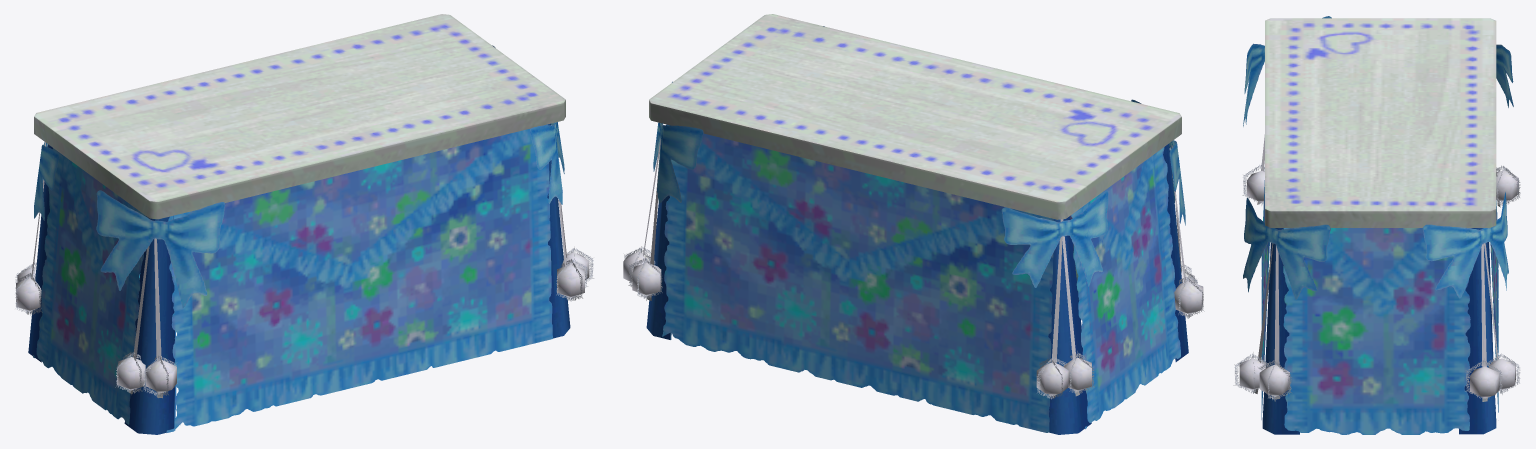
File: furni_0200011_03.FBX
3 renders of one model, left to right at view 1: azimuth 30°, elevation 25°; view 2: azimuth 150°, elevation 25°; view 3: azimuth 270°, elevation 25°, orthographic. The views are drawn at different scales.
Visible parts, largest first — view 1: furni_0200011_03; view 2: furni_0200011_03; view 3: furni_0200011_03.
Part boxes in pixels (x1,y1,x2,y2): furni_0200011_03: [15, 14, 594, 434]; furni_0200011_03: [623, 14, 1204, 434]; furni_0200011_03: [1233, 16, 1520, 434].
Size of the model in its own units: 172 by 80.05 by 94.92.
